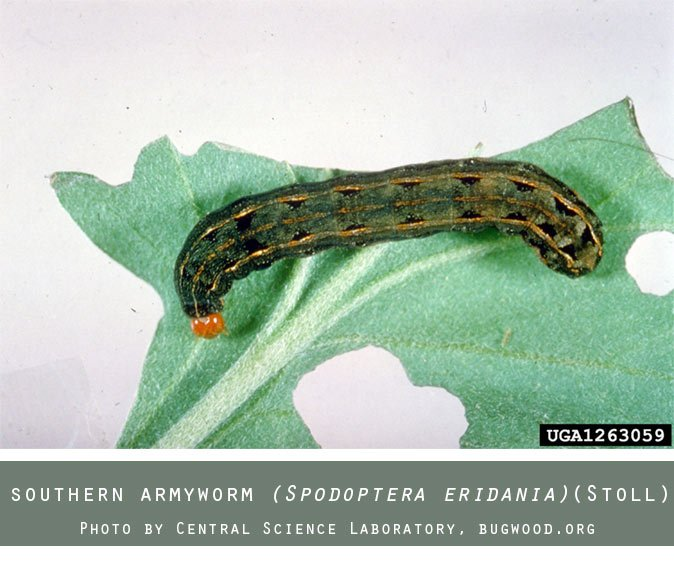Armyworm: (159, 137, 612, 364)
